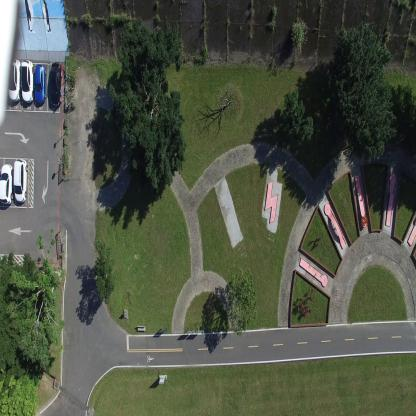car: (20, 58, 34, 104), (13, 158, 27, 203), (49, 62, 62, 107), (0, 162, 13, 205), (34, 63, 46, 104), (9, 60, 20, 102)
